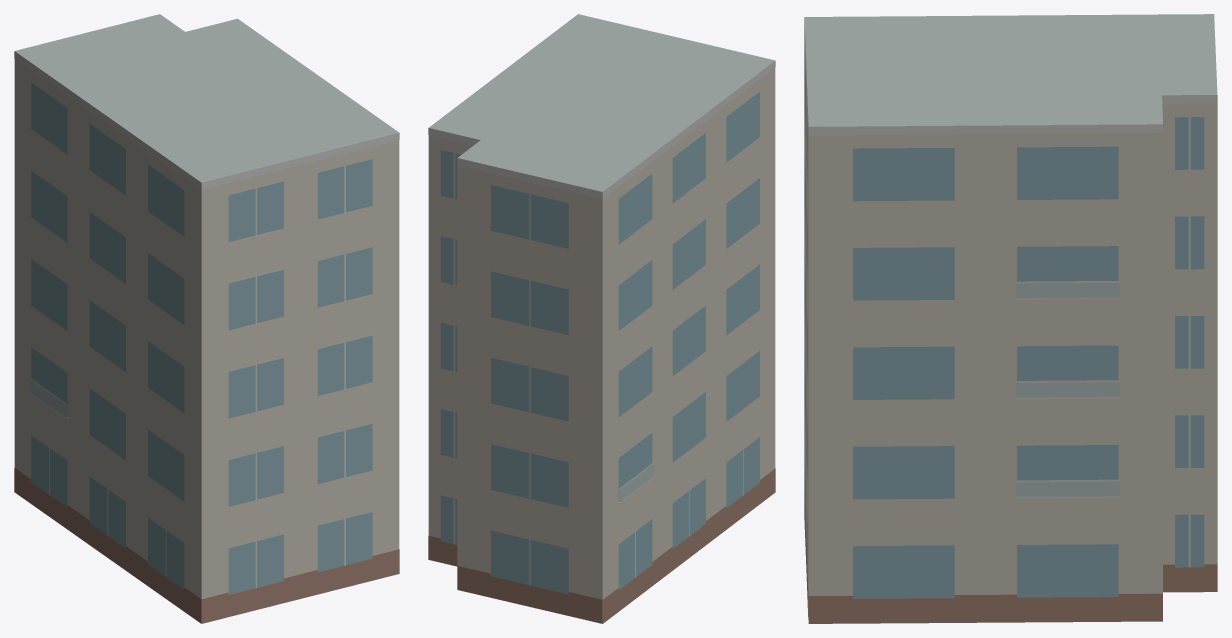
The model's file is survey-upis-33027700.glb.
3 renders of one model, left to right at view 1: azimuth 30°, elevation 25°; view 2: azimuth 150°, elevation 25°; view 3: azimuth 270°, elevation 25°, orthographic. The views are drawn at different scales.
Visible parts, largest first — view 1: survey-upis-33027700.tmp; view 2: survey-upis-33027700.tmp; view 3: survey-upis-33027700.tmp.
Boxes of the visible parts, x1,y1,x2,y2 form: survey-upis-33027700.tmp: (14, 14, 399, 623); survey-upis-33027700.tmp: (428, 14, 775, 623); survey-upis-33027700.tmp: (804, 14, 1217, 623).
Bounding box in the file's own units: 7.06 × 14.45 × 10.89.
